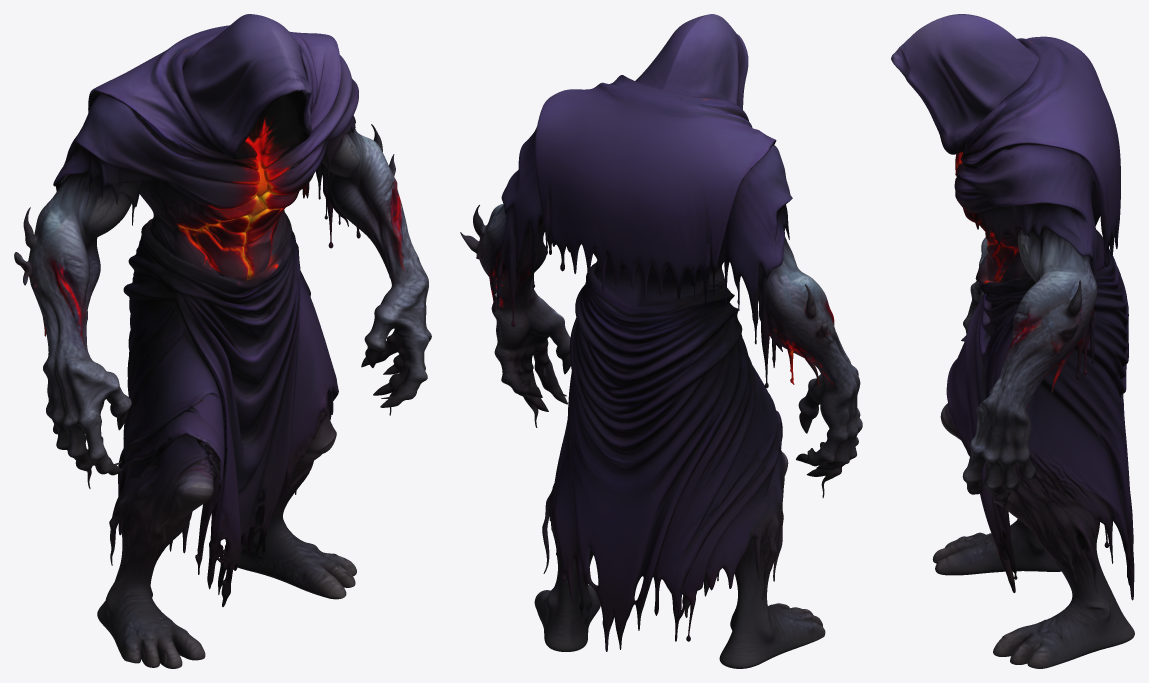
3 renders of one model, left to right at view 1: azimuth 30°, elevation 25°; view 2: azimuth 150°, elevation 25°; view 3: azimuth 270°, elevation 25°, orthographic. The views are drawn at different scales.
Visible parts, largest first — view 1: node_0; view 2: node_0; view 3: node_0.
Boxes of the visible parts, x1,y1,x2,y2 form: node_0: (14,14,431,668); node_0: (460,14,862,668); node_0: (891,14,1134,668).
Size of the model in its own units: 0.7061 by 1.09 by 0.405.
1 material, 1 textured.
